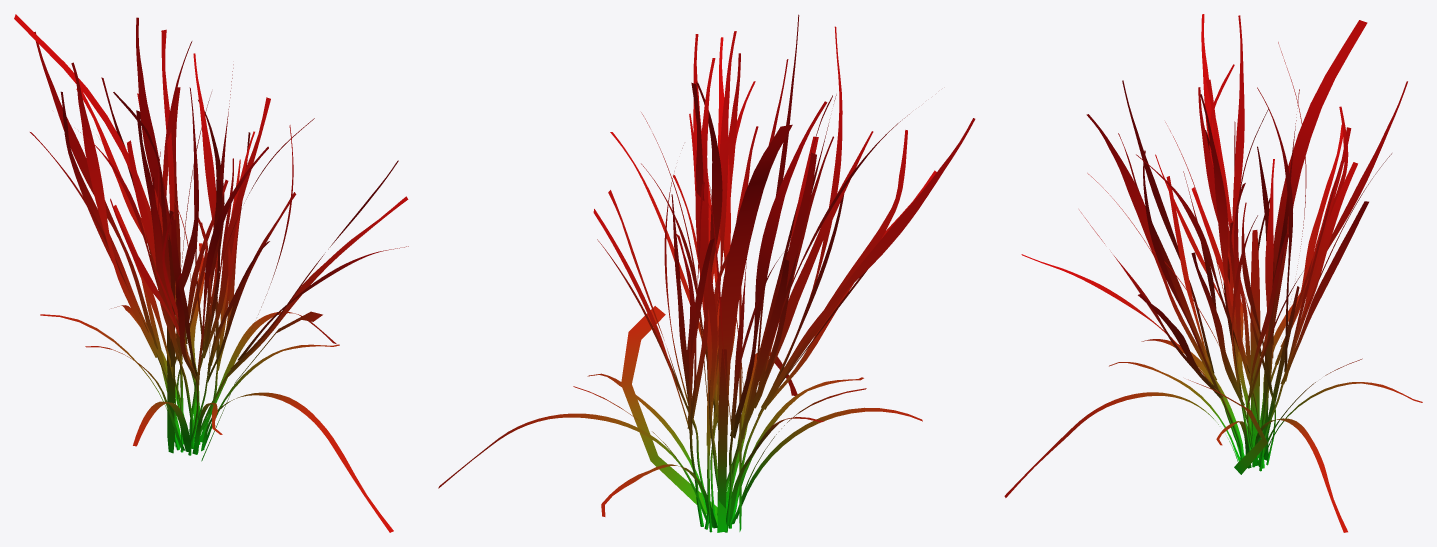
Rendered from Lemongrass_LOD0_Var3_sktne.fbx.
3 views of the same model, side by side, from view 1: azimuth 30°, elevation 25°; view 2: azimuth 150°, elevation 25°; view 3: azimuth 270°, elevation 25° (orthographic). The views are drawn at different scales.
Parts seen in each view (by area): view 1: _d3e3_Var3_LOD0; view 2: _d3e3_Var3_LOD0; view 3: _d3e3_Var3_LOD0.
Part boxes in pixels (left/top/right/bottom): _d3e3_Var3_LOD0: left=14, top=14, right=408, bottom=532; _d3e3_Var3_LOD0: left=438, top=14, right=975, bottom=532; _d3e3_Var3_LOD0: left=1004, top=14, right=1422, bottom=532.
Size of the model in its own units: 47.45 by 57.64 by 50.79.
